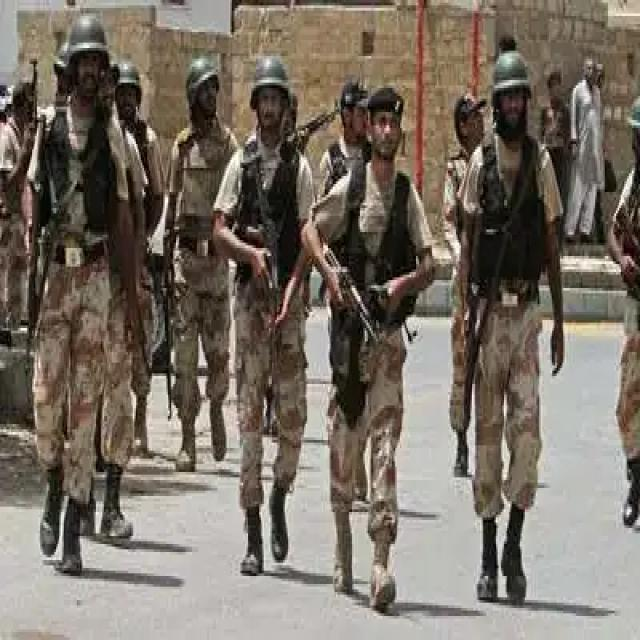Militant: (446, 34, 574, 630), (317, 89, 421, 622), (230, 35, 316, 598), (29, 27, 111, 575), (163, 53, 253, 481), (604, 89, 640, 568)
